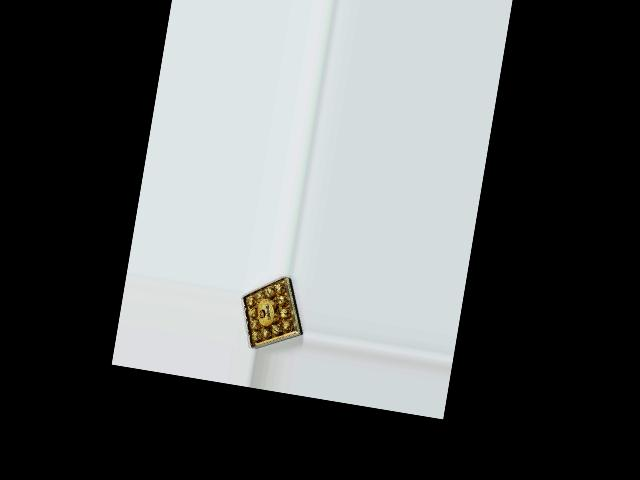chocolate: (233, 268, 313, 357)
